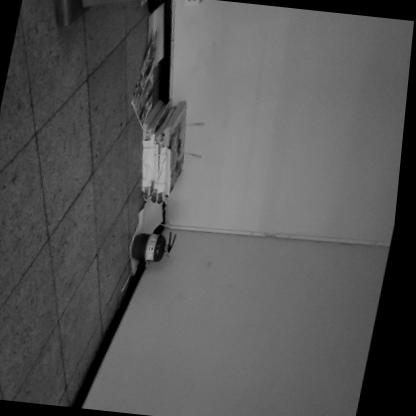FE: (134, 231, 181, 262)
